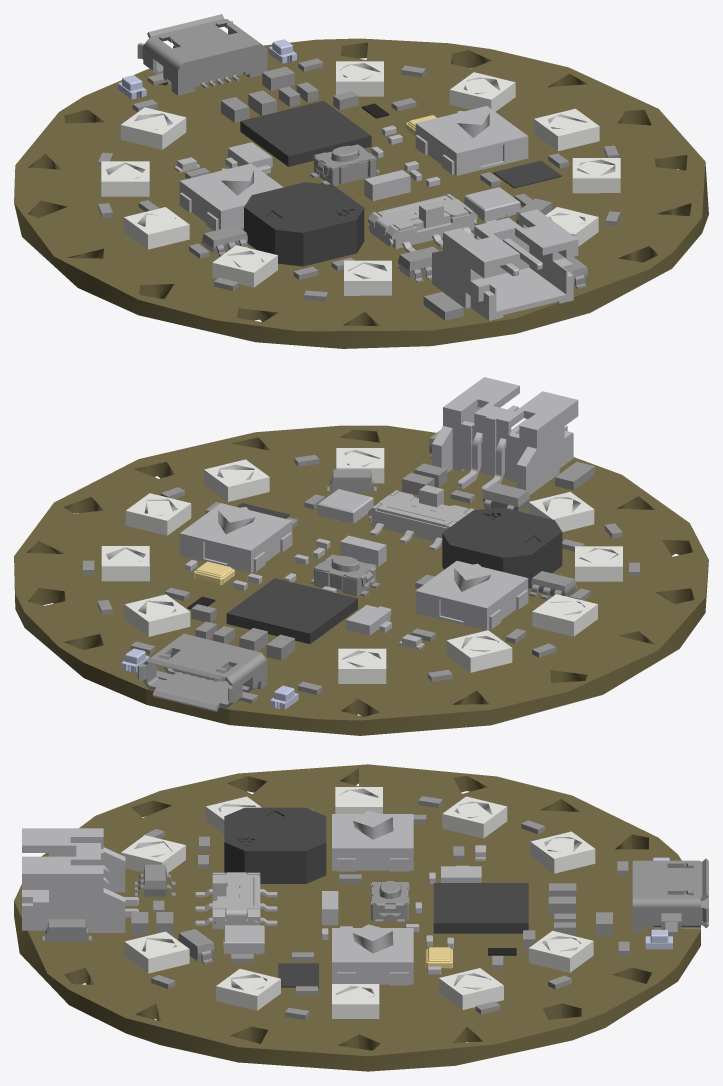
The model's file is ada-4333.glb.
3 renders of one model, top to bottom at view 1: azimuth 30°, elevation 25°; view 2: azimuth 150°, elevation 25°; view 3: azimuth 270°, elevation 25°, orthographic.
Parts seen in each view (by area): view 1: 0.16666666666666666_0.16666666666666666_0.08333333333333333_, 0.5833333333333334_0.5833333333333334_0.5833333333333334_0.8, 0.3333333333333333_0.3333333333333333_0.3333333333333333_0, 0.9166666666666666_0.9166666666666666_0.9166666666666666_0.8, 0.08333333333333333_0.08333333333333333_0.08333333333333333_, 0.5_0.5_0.5_0.85, 0.5833333333333334_0.6666666666666666_0.8333333333333334_0; view 2: 0.16666666666666666_0.16666666666666666_0.08333333333333333_, 0.5833333333333334_0.5833333333333334_0.5833333333333334_0.8, 0.3333333333333333_0.3333333333333333_0.3333333333333333_0, 0.9166666666666666_0.9166666666666666_0.9166666666666666_0.8, 0.08333333333333333_0.08333333333333333_0.08333333333333333_, 0.5_0.5_0.5_0.85, 0.5833333333333334_0.6666666666666666_0.8333333333333334_0, 0.9166666666666666_0.75_0.3333333333333333_0.9; view 3: 0.16666666666666666_0.16666666666666666_0.08333333333333333_, 0.5833333333333334_0.5833333333333334_0.5833333333333334_0.8, 0.9166666666666666_0.9166666666666666_0.9166666666666666_0.8, 0.3333333333333333_0.3333333333333333_0.3333333333333333_0, 0.08333333333333333_0.08333333333333333_0.08333333333333333_, 0.5_0.5_0.5_0.85, 0.5833333333333334_0.6666666666666666_0.8333333333333334_0, 0.9166666666666666_0.75_0.3333333333333333_0.9.
Part boxes in pixels (box(x1,y1,x2,y2)): 0.16666666666666666_0.16666666666666666_0.08333333333333333_: box(14, 38, 708, 348); 0.5833333333333334_0.5833333333333334_0.5833333333333334_0.8: box(174, 106, 578, 320); 0.3333333333333333_0.3333333333333333_0.3333333333333333_0: box(98, 14, 620, 320); 0.9166666666666666_0.9166666666666666_0.9166666666666666_0.8: box(101, 61, 620, 295); 0.08333333333333333_0.08333333333333333_0.08333333333333333_: box(240, 101, 561, 266); 0.5_0.5_0.5_0.85: box(368, 194, 477, 252); 0.5833333333333334_0.6666666666666666_0.8333333333333334_0: box(118, 39, 296, 99); 0.16666666666666666_0.16666666666666666_0.08333333333333333_: box(14, 425, 708, 735); 0.5833333333333334_0.5833333333333334_0.5833333333333334_0.8: box(179, 377, 578, 649); 0.3333333333333333_0.3333333333333333_0.3333333333333333_0: box(83, 430, 639, 711); 0.9166666666666666_0.9166666666666666_0.9166666666666666_0.8: box(101, 448, 622, 683); 0.08333333333333333_0.08333333333333333_0.08333333333333333_: box(226, 503, 562, 644); 0.5_0.5_0.5_0.85: box(368, 485, 473, 550); 0.5833333333333334_0.6666666666666666_0.8333333333333334_0: box(121, 648, 298, 709); 0.9166666666666666_0.75_0.3333333333333333_0.9: box(193, 561, 234, 584); 0.16666666666666666_0.16666666666666666_0.08333333333333333_: box(14, 764, 700, 1071); 0.5833333333333334_0.5833333333333334_0.5833333333333334_0.8: box(22, 810, 485, 985); 0.9166666666666666_0.9166666666666666_0.9166666666666666_0.8: box(121, 787, 595, 1018); 0.3333333333333333_0.3333333333333333_0.3333333333333333_0: box(42, 796, 708, 1019); 0.08333333333333333_0.08333333333333333_0.08333333333333333_: box(224, 807, 528, 987); 0.5_0.5_0.5_0.85: box(195, 872, 277, 929); 0.5833333333333334_0.6666666666666666_0.8333333333333334_0: box(645, 857, 672, 949); 0.9166666666666666_0.75_0.3333333333333333_0.9: box(425, 947, 452, 968).
Size of the model in its own units: 5.08 by 0.604 by 5.11.
